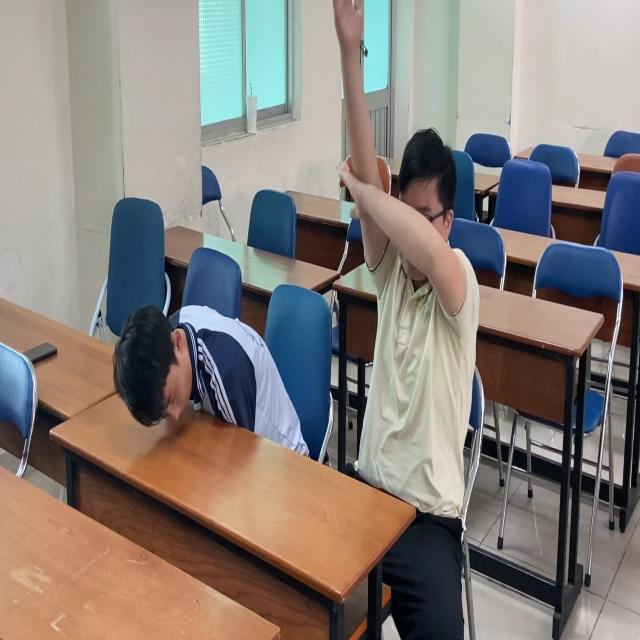raise_hand: (332, 1, 488, 402)
sleep: (107, 298, 298, 446)
